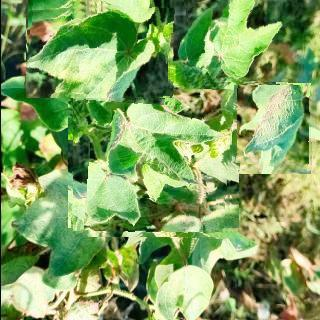curl: (72, 76, 233, 237), (25, 0, 172, 98), (187, 0, 305, 85), (229, 85, 315, 171)
